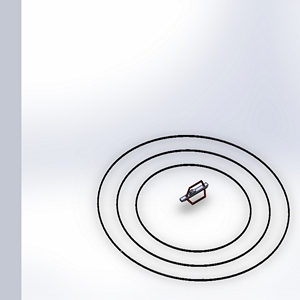circle: (88, 130, 296, 290)
submarine: (174, 176, 219, 218)
